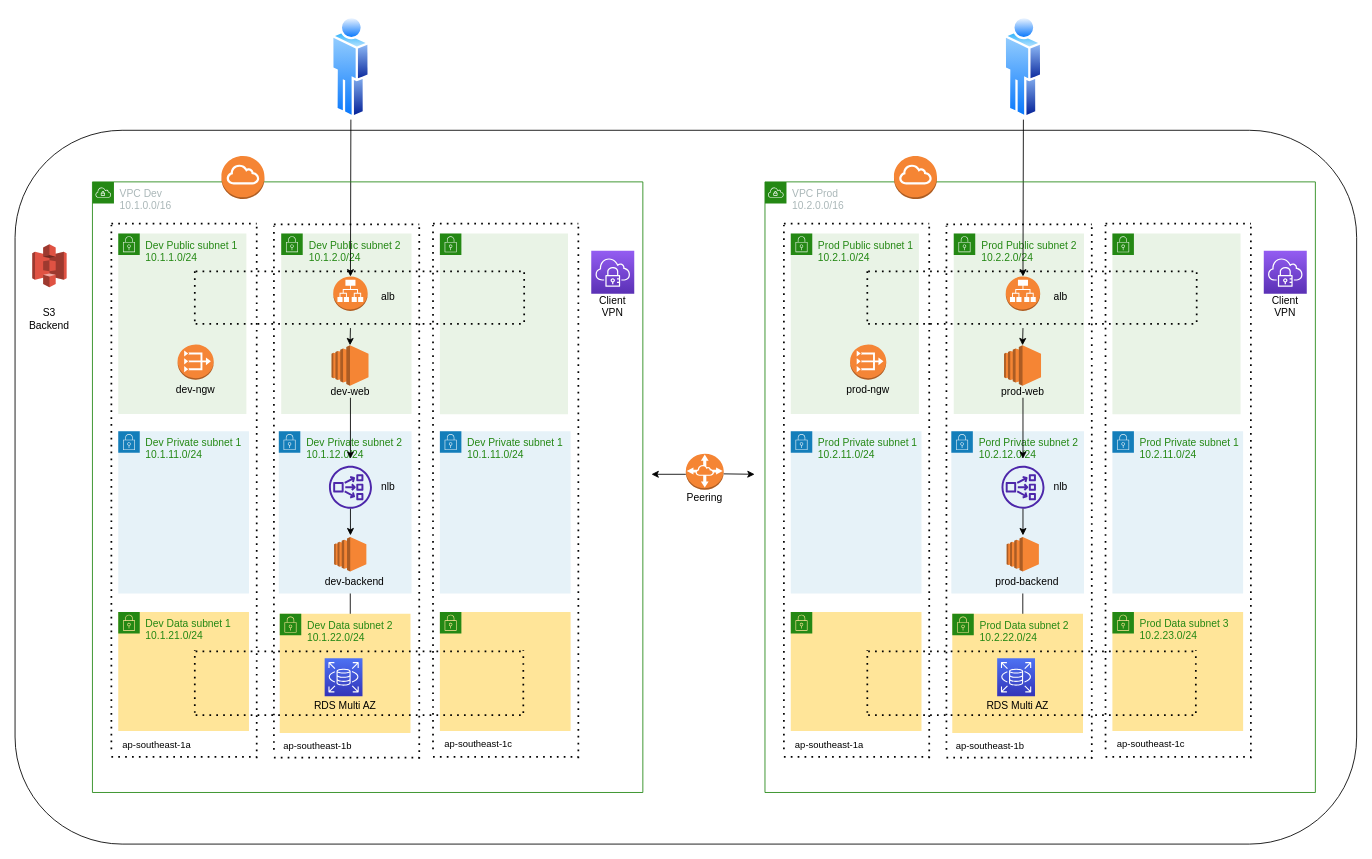
The diagram is 1372 pixels wide and 859 high, and some of its shapes have lost their labels. Each missing label, with the centre of its shape:
"Dev Data subnet 3 10.1.23.0/24" goes at (505,671).
"Dev Public subnet 3 10.1.3.0/24" goes at (503,323).
"Pord Data subnet 1 10.2.21.0/24" goes at (855,671).
"Prod Public subnet 3 10.2.3.0/24" goes at (1176,323).
